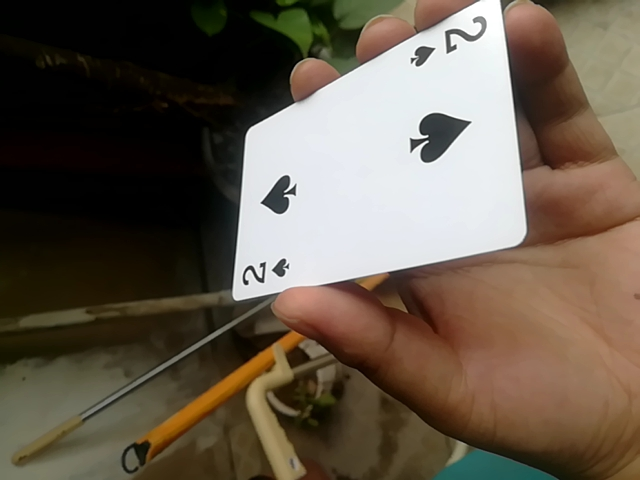ht 2: (229, 5, 526, 312)
